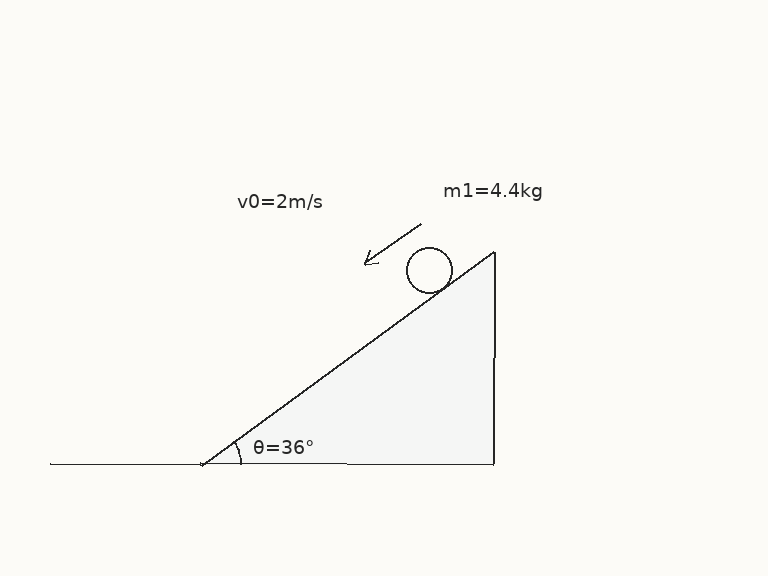ball: (404, 245, 454, 295)
ramp: (199, 249, 496, 466)
